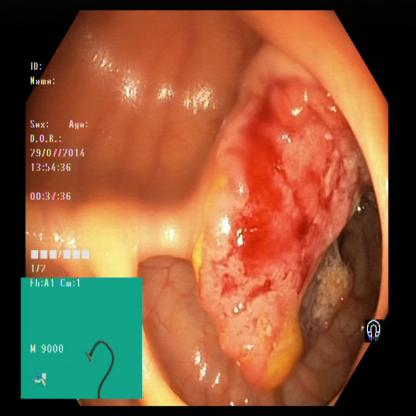Labels: (27, 49, 126, 279), (21, 278, 142, 401)
Polyps: (190, 56, 356, 382)
